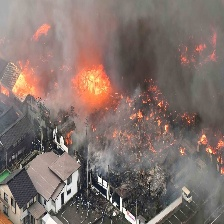fire: (132, 88, 183, 157), (77, 62, 113, 100), (196, 128, 224, 173), (187, 30, 219, 67), (1, 68, 36, 101), (31, 23, 51, 45), (62, 123, 76, 148)
smoke: (11, 4, 179, 55), (76, 132, 112, 176)
